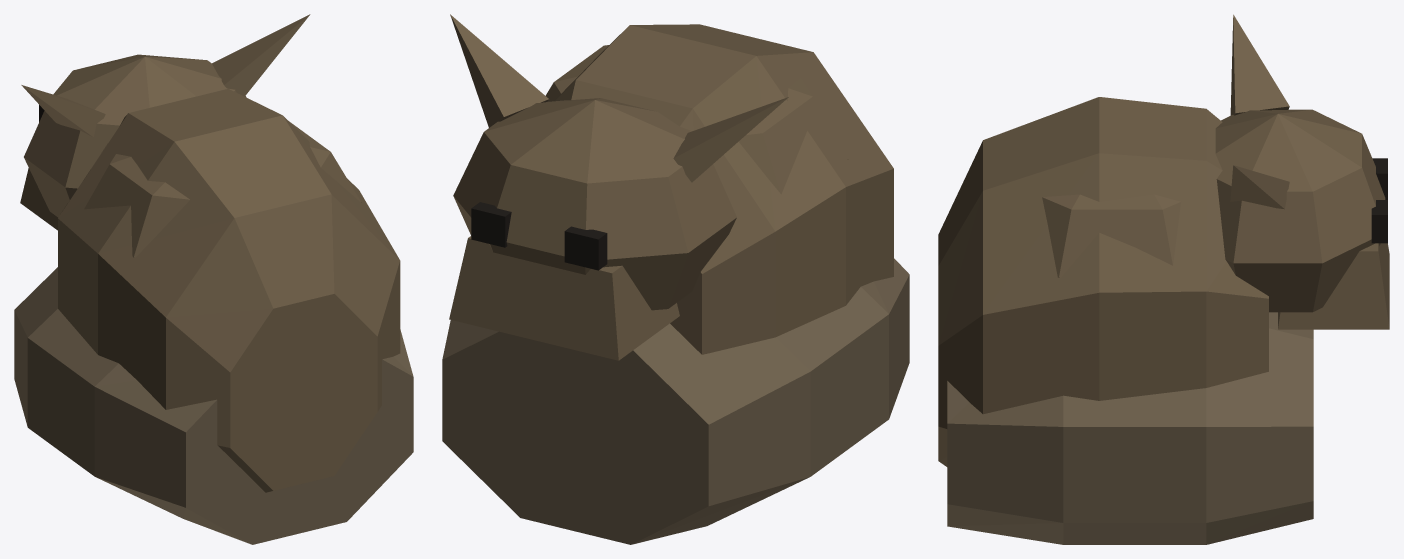
The model's file is animal_dryad_carrier_bones.obj.
3 views of the same model, side by side, from view 1: azimuth 30°, elevation 25°; view 2: azimuth 150°, elevation 25°; view 3: azimuth 270°, elevation 25° (orthographic). The views are drawn at different scales.
Bounding box in the file's own units: 0.6486 × 0.8146 × 0.7878.
